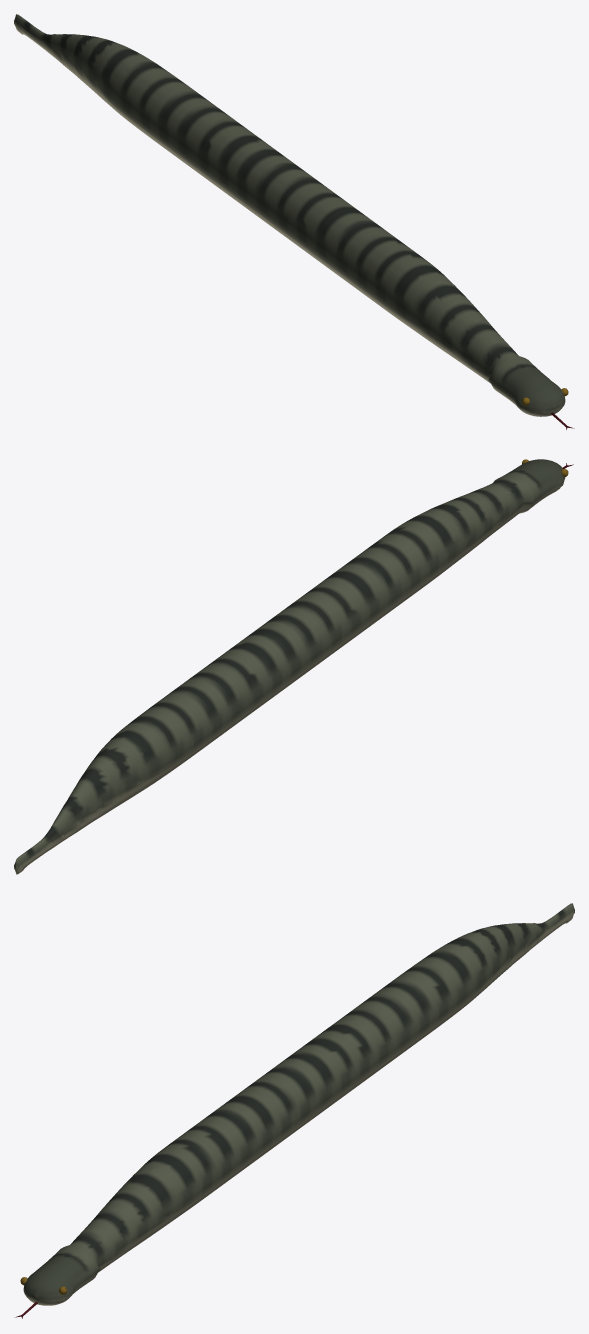
The model's file is PalaeophisColossaeus.fbx.
3 views of the same model, one above another, from view 1: azimuth 30°, elevation 25°; view 2: azimuth 150°, elevation 25°; view 3: azimuth 330°, elevation 25° (orthographic).
Parts seen in each view (by area): view 1: PalaeophisColossaeus; view 2: PalaeophisColossaeus; view 3: PalaeophisColossaeus.
Boxes of the visible parts, x1,y1,x2,y2 form: PalaeophisColossaeus: (14,14,574,429); PalaeophisColossaeus: (14,459,573,874); PalaeophisColossaeus: (14,903,574,1318).
Size of the model in its own units: 0.1389 by 0.1478 by 2.47.
